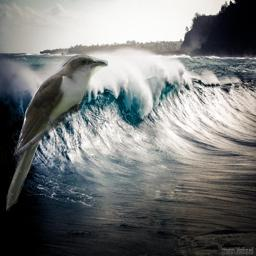Cuckoo: (1, 53, 108, 214)
